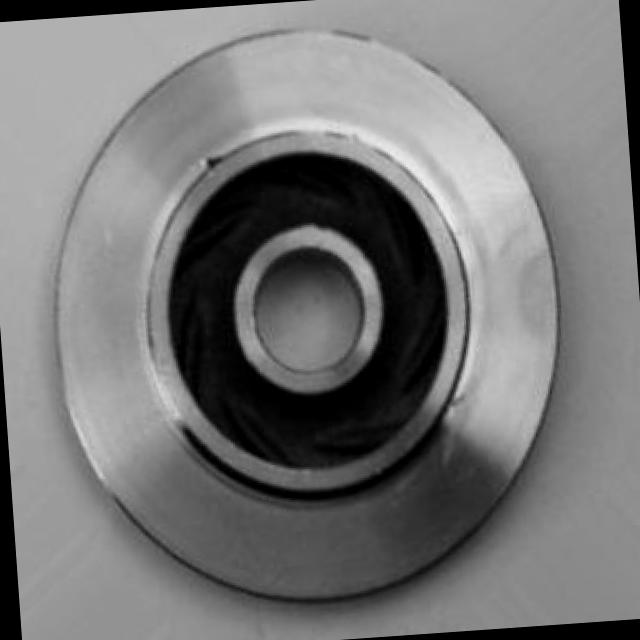Defect: (192, 144, 243, 178)
